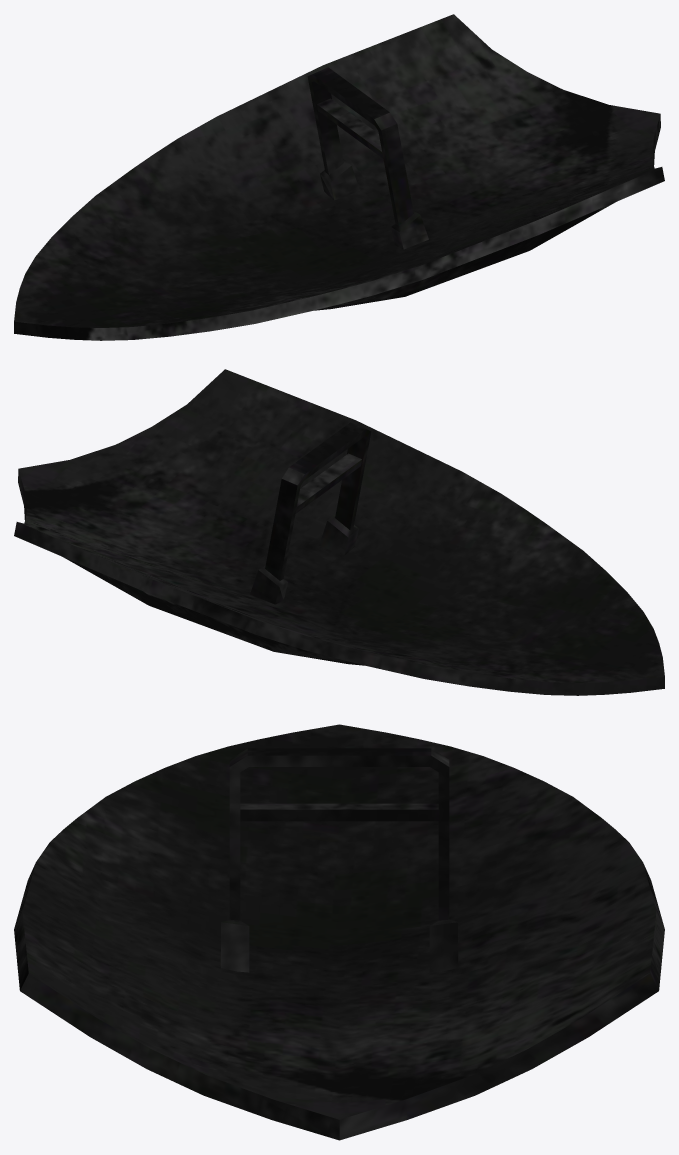
3 renders of one model, top to bottom at view 1: azimuth 30°, elevation 25°; view 2: azimuth 150°, elevation 25°; view 3: azimuth 270°, elevation 25°, orthographic. The views are drawn at different scales.
Parts seen in each view (by area): view 1: mesh_0; view 2: mesh_0; view 3: mesh_0.
Part boxes in pixels (x1,y1,x2,y2): mesh_0: [14, 14, 664, 340]; mesh_0: [14, 369, 664, 695]; mesh_0: [14, 724, 664, 1140].
Bounding box in the file's own units: 31.32 × 8.5 × 18.31.
Materials: 1 (1 with a texture image).
